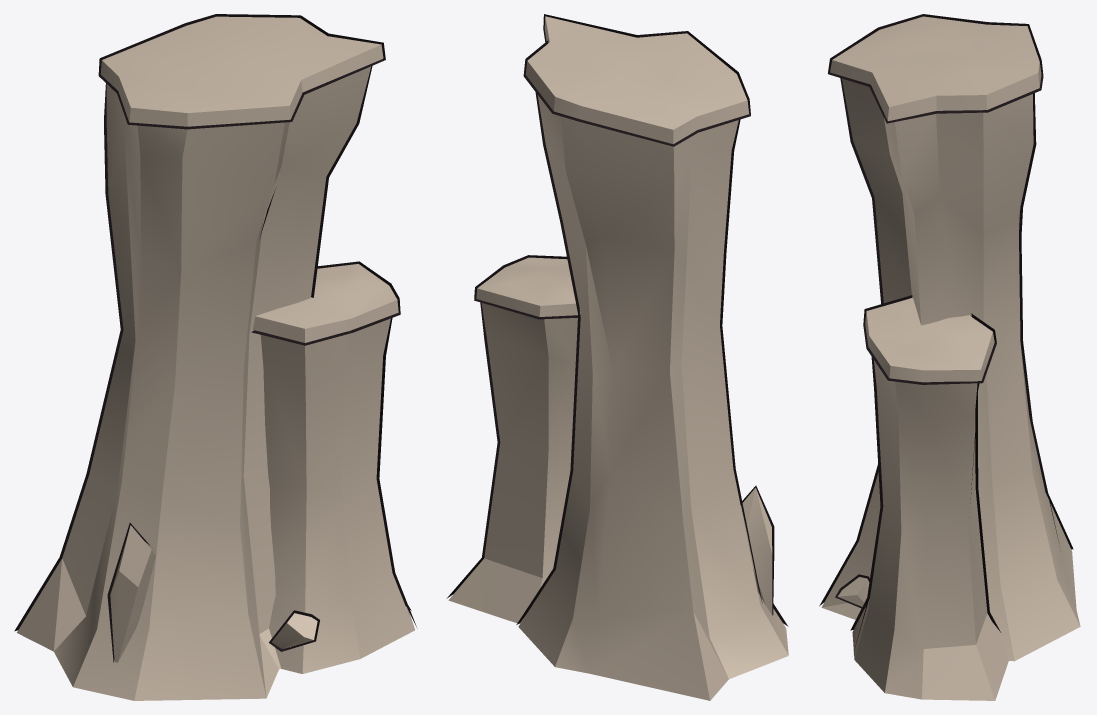
Rendered from SM_Mtn_Butte_01.fbx.
3 renders of one model, left to right at view 1: azimuth 30°, elevation 25°; view 2: azimuth 150°, elevation 25°; view 3: azimuth 270°, elevation 25°, orthographic. The views are drawn at different scales.
Parts seen in each view (by area): view 1: SM_Mtn_Butte_01; view 2: SM_Mtn_Butte_01; view 3: SM_Mtn_Butte_01.
Boxes of the visible parts, x1=… form: SM_Mtn_Butte_01: x1=14, y1=14, x2=417, y2=700; SM_Mtn_Butte_01: x1=446, y1=14, x2=788, y2=700; SM_Mtn_Butte_01: x1=819, y1=14, x2=1080, y2=700.
Bounding box in the file's own units: 29.36 × 49.66 × 20.74.
